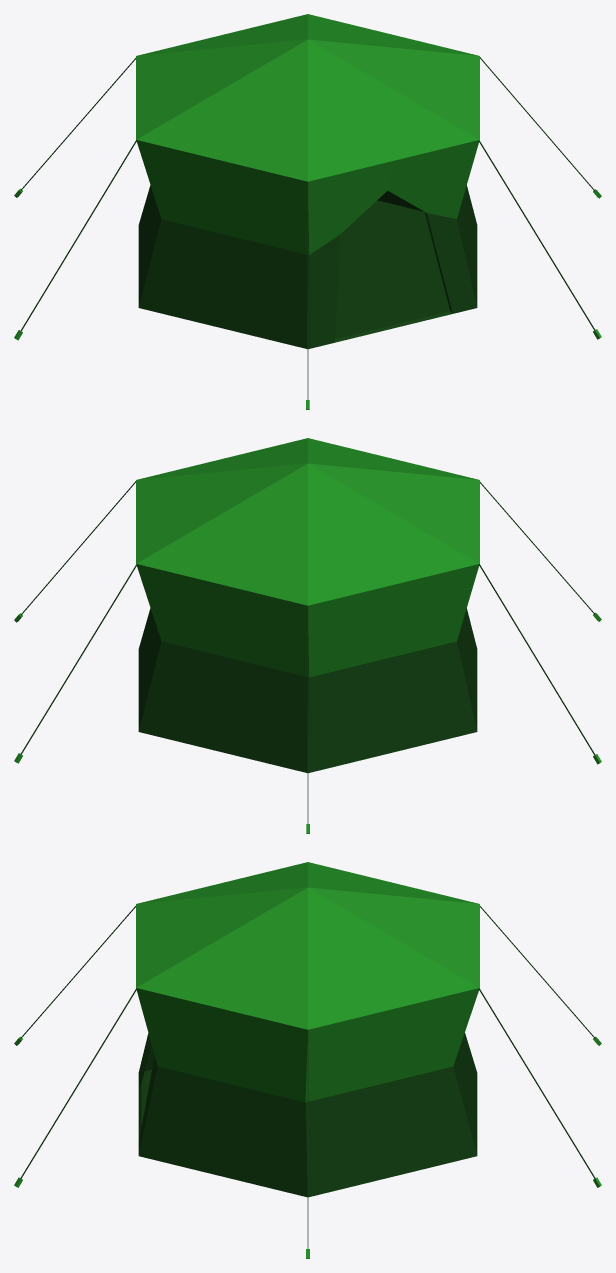
Rendered from Tent_6_Green.fbx.
3 renders of one model, top to bottom at view 1: azimuth 30°, elevation 25°; view 2: azimuth 150°, elevation 25°; view 3: azimuth 270°, elevation 25°, orthographic.
Parts seen in each view (by area): view 1: Tent_6_Green_Part_9, Tent_6_Green_Part_7, Tent_6_Green_Part_1, Tent_6_Green_Part_11, Tent_6_Green_Part_10, Tent_6_Green_Part_8, Tent_6_Green_Part_2, Tent_6_Green_Part_12, Tent_6_Green_Part_6, Tent_6_Green_Part_3; view 2: Tent_6_Green_Part_9, Tent_6_Green_Part_6, Tent_6_Green_Part_5, Tent_6_Green_Part_12, Tent_6_Green_Part_4, Tent_6_Green_Part_7; view 3: Tent_6_Green_Part_9, Tent_6_Green_Part_3, Tent_6_Green_Part_4, Tent_6_Green_Part_12, Tent_6_Green_Part_5.
Boxes of the visible parts, x1,y1,x2,y2 form: Tent_6_Green_Part_9: (136, 14, 479, 181); Tent_6_Green_Part_7: (136, 140, 309, 348); Tent_6_Green_Part_1: (334, 200, 452, 342); Tent_6_Green_Part_11: (387, 140, 479, 218); Tent_6_Green_Part_10: (308, 161, 393, 254); Tent_6_Green_Part_8: (308, 234, 340, 348); Tent_6_Green_Part_2: (424, 212, 477, 313); Tent_6_Green_Part_12: (14, 57, 601, 409); Tent_6_Green_Part_6: (138, 185, 161, 306); Tent_6_Green_Part_3: (457, 185, 477, 306); Tent_6_Green_Part_9: (136, 438, 479, 605); Tent_6_Green_Part_6: (308, 564, 479, 772); Tent_6_Green_Part_5: (136, 564, 309, 772); Tent_6_Green_Part_12: (14, 481, 601, 833); Tent_6_Green_Part_4: (138, 608, 161, 730); Tent_6_Green_Part_7: (457, 608, 477, 730); Tent_6_Green_Part_9: (136, 862, 479, 1029); Tent_6_Green_Part_3: (136, 988, 307, 1197); Tent_6_Green_Part_4: (305, 988, 479, 1197); Tent_6_Green_Part_12: (14, 906, 601, 1258); Tent_6_Green_Part_5: (453, 1033, 477, 1154).
Bounding box in the file's own units: 1636 × 612 × 1420.
